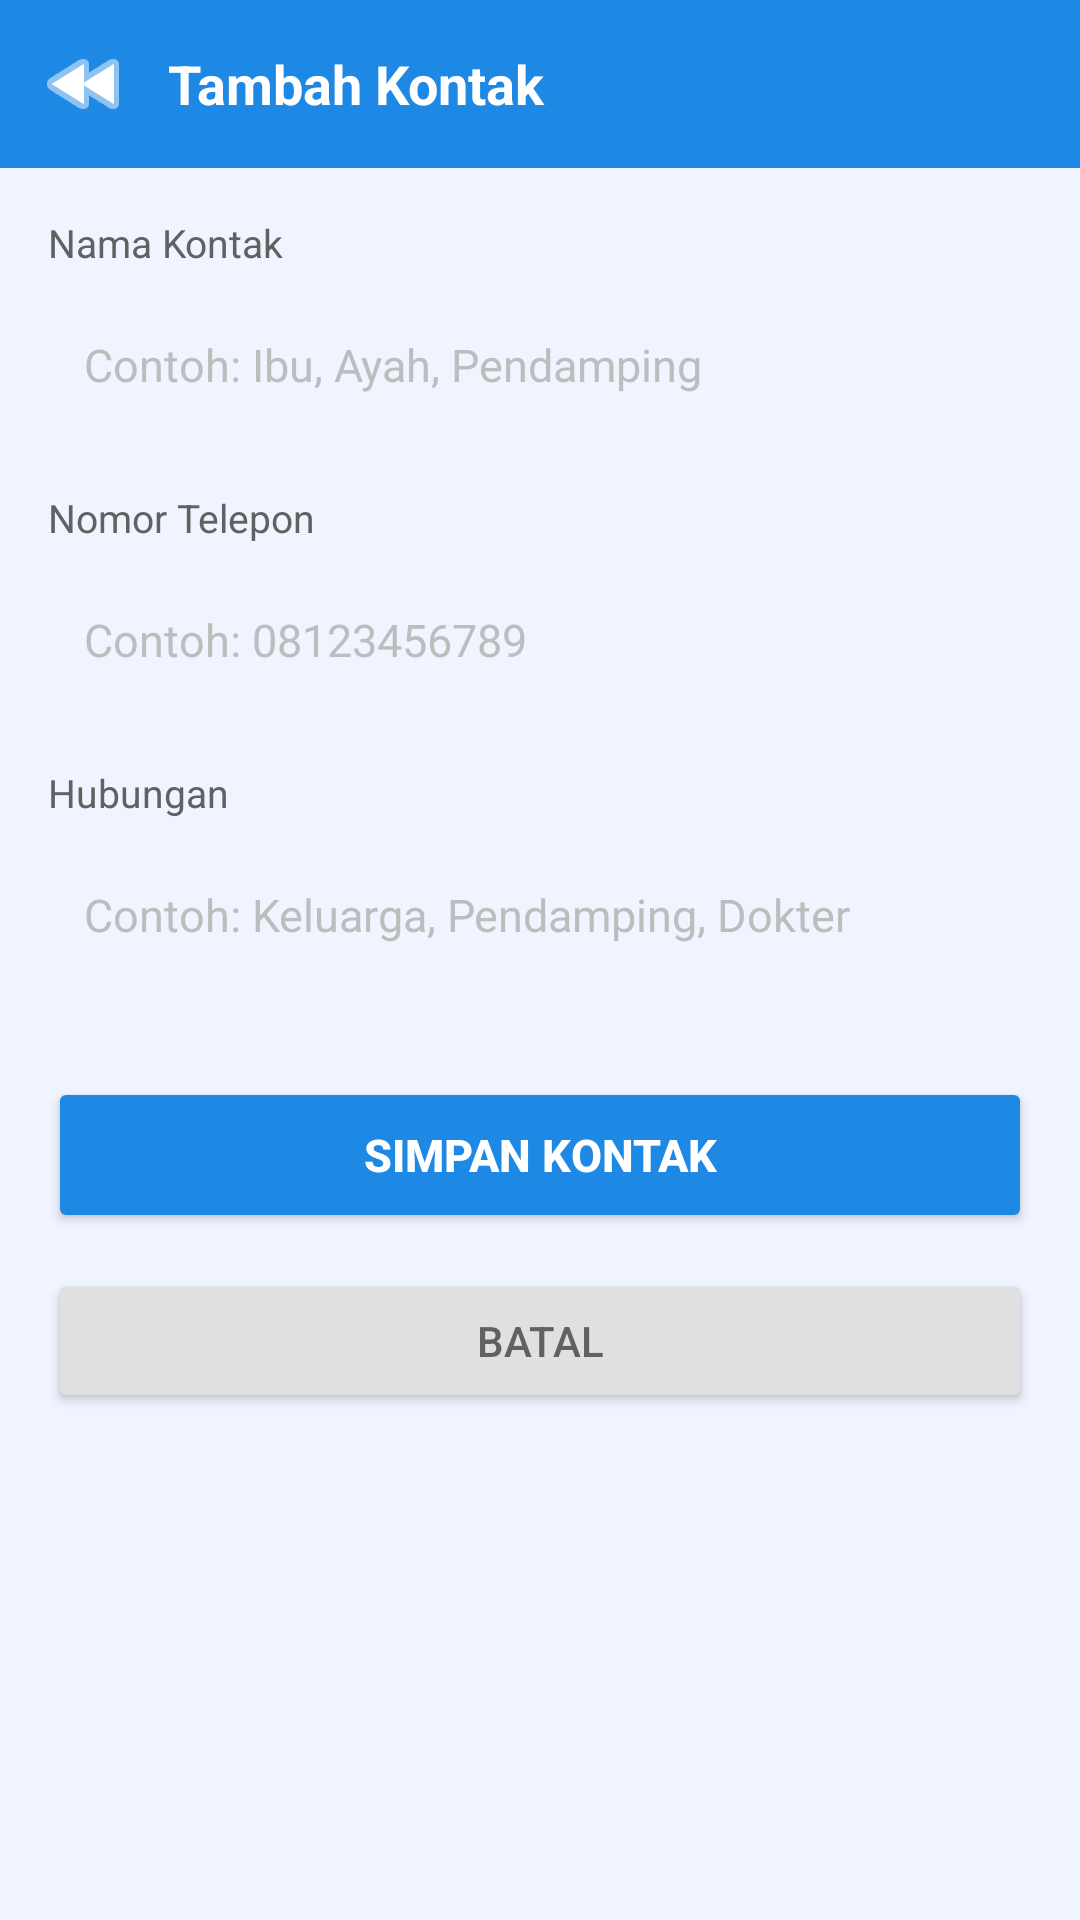

Where icons sit on this 1080x1920 app screen, as (x1, y1, x2, y2):
Kembali: (47, 59, 119, 109)
